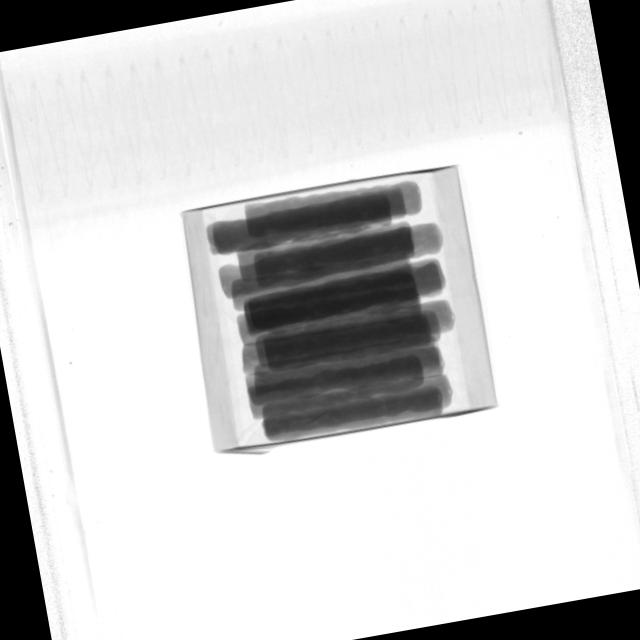ym: (297, 410, 331, 428)
